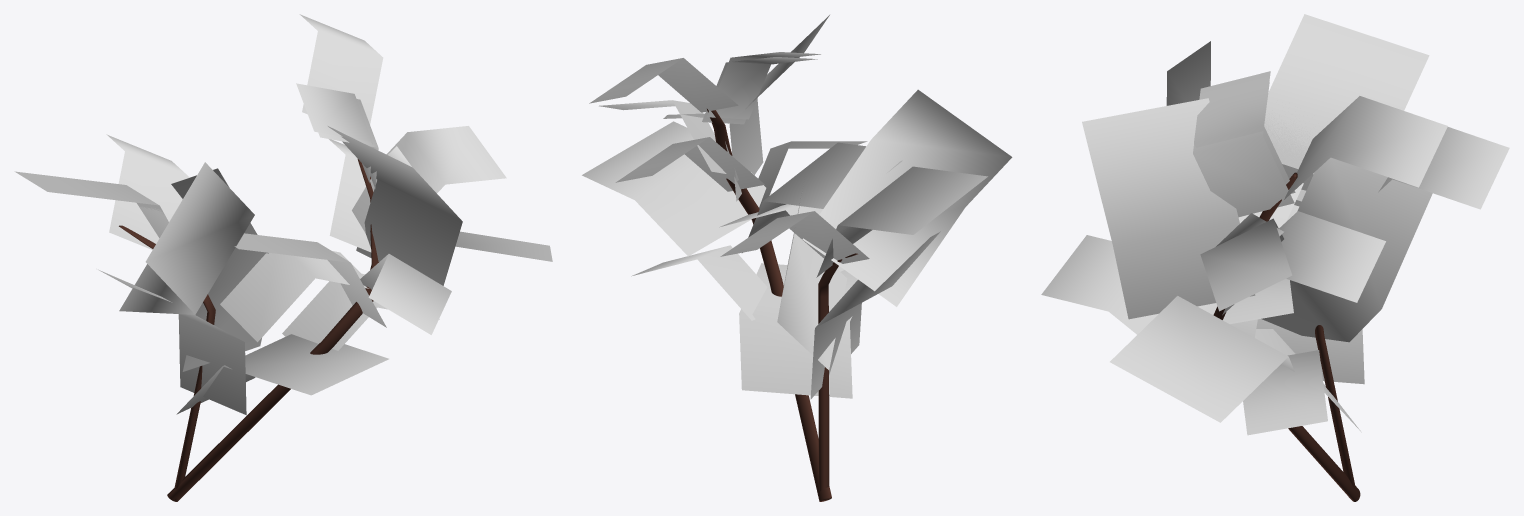
Rendered from plante.fbx.
3 renders of one model, left to right at view 1: azimuth 30°, elevation 25°; view 2: azimuth 150°, elevation 25°; view 3: azimuth 270°, elevation 25°, orthographic. The views are drawn at different scales.
Parts seen in each view (by area): view 1: Plane.008; view 2: Plane.008; view 3: Plane.008, Plane.002.
Part boxes in pixels (box(x1,y1,x2,y2)): Plane.008: box(14, 14, 552, 501); Plane.008: box(582, 15, 1012, 501); Plane.008: box(1041, 14, 1509, 501); Plane.002: box(1264, 110, 1313, 201).
Size of the model in its own units: 8.99 by 8.01 by 7.03.
